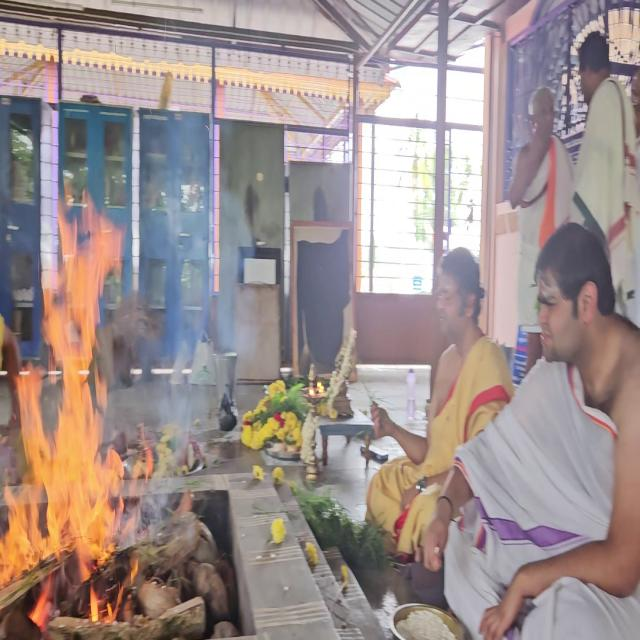fire: (2, 162, 149, 640)
